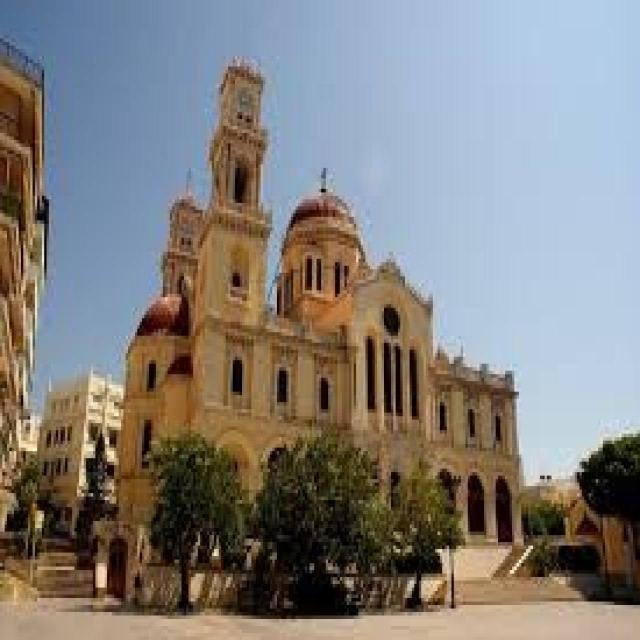Agios Minas: (116, 69, 530, 585)
